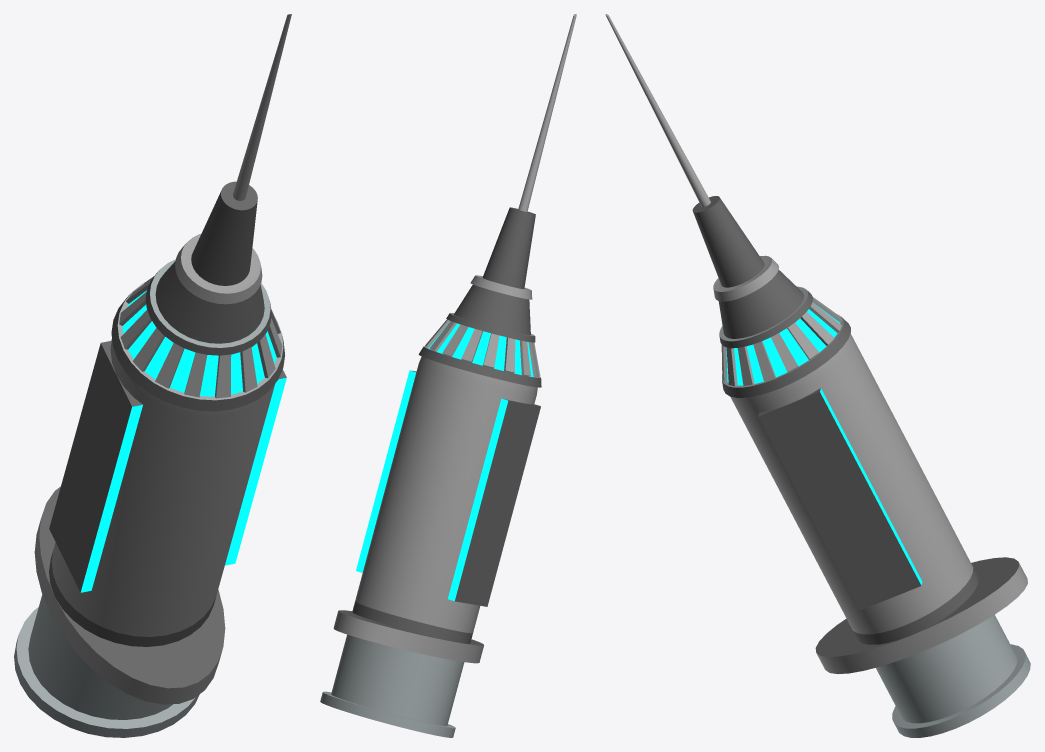
File: vaccine12.fbx
3 renders of one model, left to right at view 1: azimuth 30°, elevation 25°; view 2: azimuth 150°, elevation 25°; view 3: azimuth 270°, elevation 25°, orthographic. The views are drawn at different scales.
Parts seen in each view (by area): view 1: Cylinder; view 2: Cylinder; view 3: Cylinder.
Part boxes in pixels (bbox=[...]): Cylinder: bbox=[14, 14, 291, 737]; Cylinder: bbox=[320, 14, 576, 737]; Cylinder: bbox=[605, 14, 1030, 737].
Size of the model in its own units: 244 by 1122 by 622.
